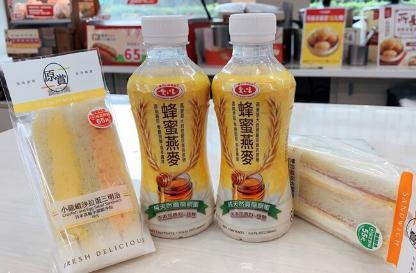Plastic Bottle: (211, 14, 295, 242), (128, 18, 214, 238)
